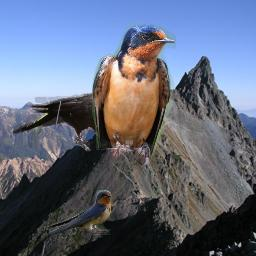Swallow: (92, 23, 176, 167), (36, 190, 115, 235)
Woodpecker: (13, 82, 159, 153)
